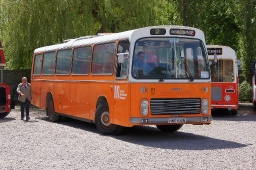bus: (30, 26, 218, 130)
person: (14, 75, 36, 122)
